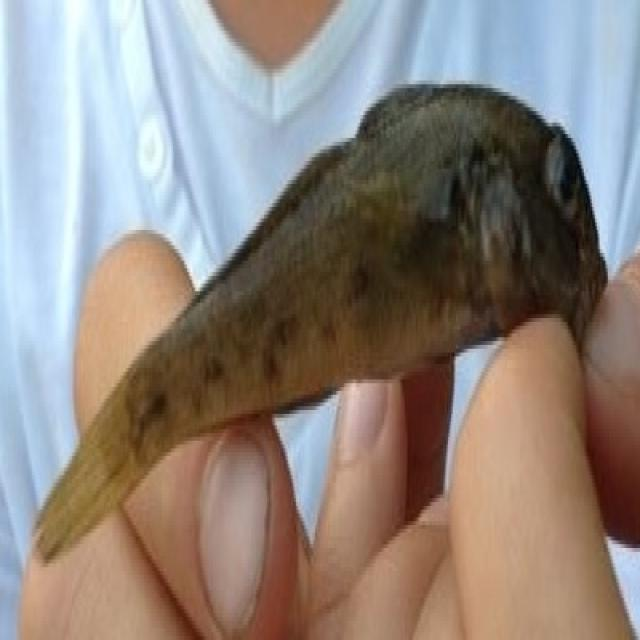Goby: (31, 57, 627, 588)
